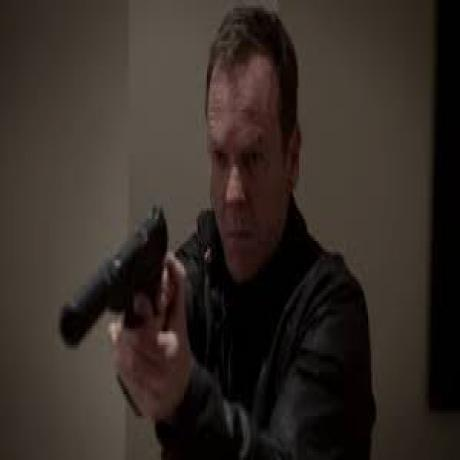Guns: (52, 221, 169, 346)
